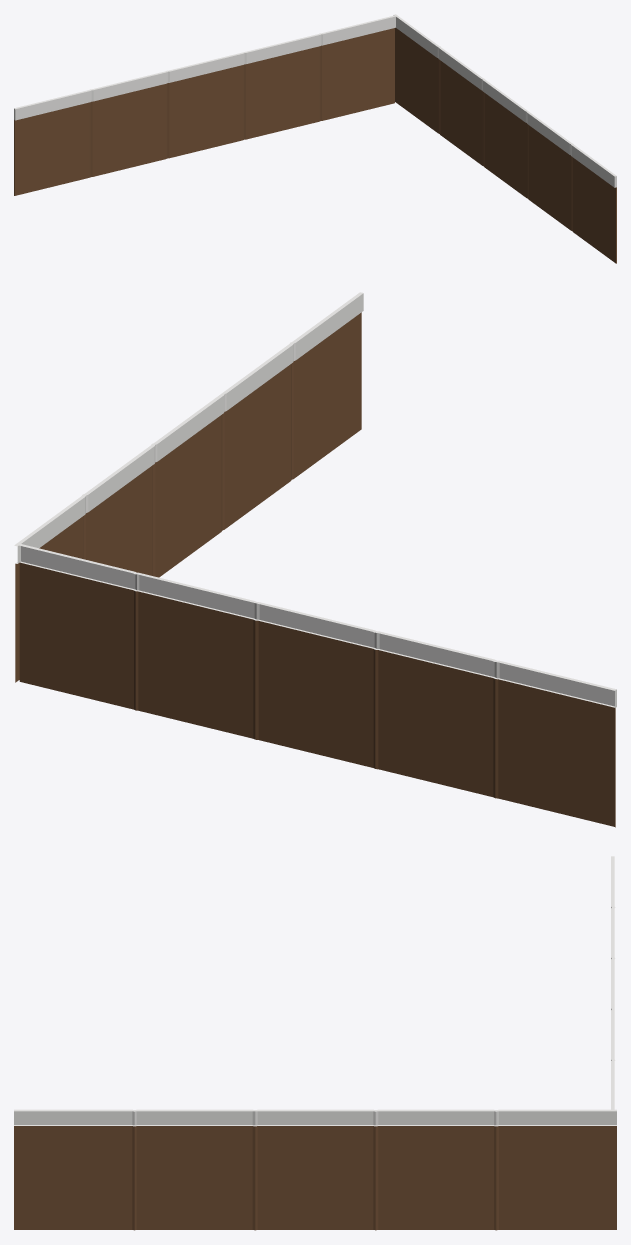
Rendered from Tiles_1.fbx.
3 renders of one model, top to bottom at view 1: azimuth 30°, elevation 25°; view 2: azimuth 150°, elevation 25°; view 3: azimuth 270°, elevation 25°, orthographic. The views are drawn at different scales.
Visible parts, largest first — view 1: Tiles_1; view 2: Tiles_1; view 3: Tiles_1.
Part boxes in pixels (x1=…): Tiles_1: x1=14, y1=14, x2=616, y2=263; Tiles_1: x1=14, y1=292, x2=616, y2=827; Tiles_1: x1=14, y1=856, x2=616, y2=1230.
Size of the model in its own units: 492 by 491 by 107.
